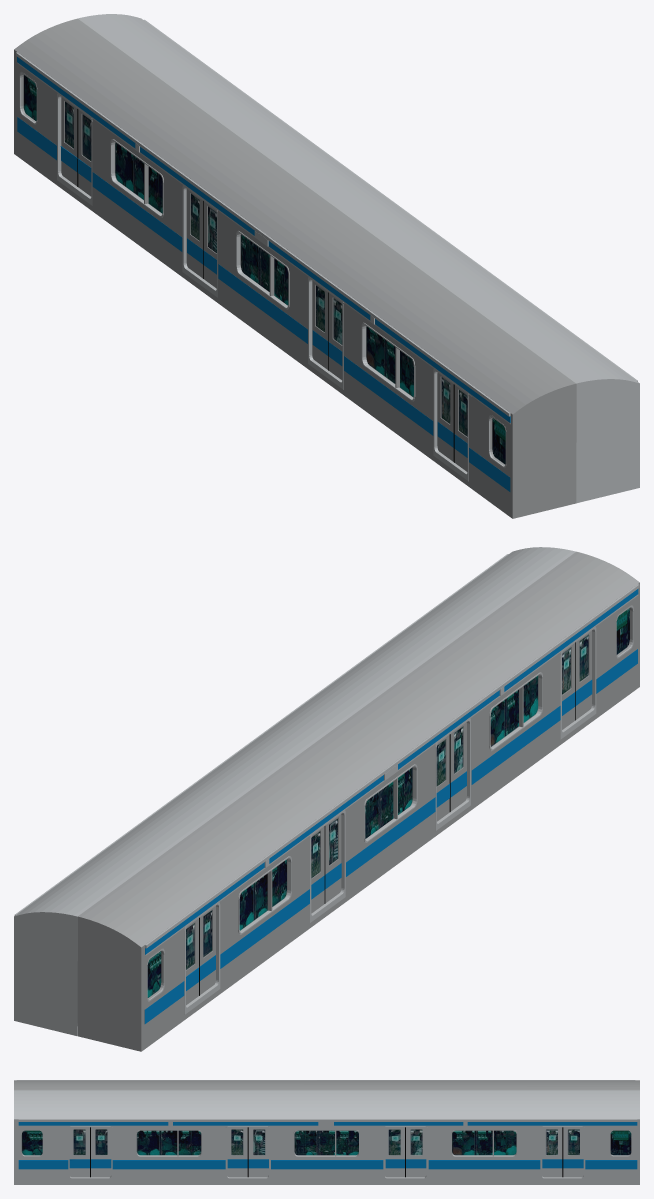
Rendered from trainF.glb.
3 renders of one model, top to bottom at view 1: azimuth 30°, elevation 25°; view 2: azimuth 150°, elevation 25°; view 3: azimuth 270°, elevation 25°, orthographic. The views are drawn at different scales.
Parts seen in each view (by area): view 1: train_bode.002, train_bode.001, 平面.001, ステッカー.005, 上ステッカー.002, 立方体.015, ステッカー.004, ドア.003, ドア.008, ドア.007, ドア.005, 立方体.026 (+5 smaller); view 2: train_bode.002, train_bode.001, 平面.001, ステッカー.005, 上ステッカー.002, 立方体.015, ステッカー.004, ドア.007, ドア.003, ドア.008, ドア.005, 立方体.026 (+5 smaller); view 3: train_bode.001, 平面, train_bode.002, ステッカー, 上ステッカー.001, 立方体.026, ステッカー.003, ドア.002, ドア.006, ドア.004, ドア.001, 立方体.031 (+8 smaller).
Part boxes in pixels (left/top/right/bottom): train_bode.002: left=14, top=18, right=576, bottom=518; train_bode.001: left=78, top=14, right=639, bottom=503; 平面.001: left=23, top=75, right=505, bottom=464; ステッカー.005: left=17, top=117, right=510, bottom=491; 上ステッカー.002: left=17, top=57, right=510, bottom=422; 立方体.015: left=16, top=52, right=510, bottom=416; ステッカー.004: left=60, top=146, right=467, bottom=457; ドア.003: left=186, top=189, right=216, bottom=288; ドア.008: left=437, top=372, right=467, bottom=471; ドア.007: left=312, top=281, right=342, bottom=380; ドア.005: left=61, top=97, right=91, bottom=196; 立方体.026: left=144, top=19, right=637, bottom=381; train_bode.002: left=77, top=551, right=639, bottom=1051; train_bode.001: left=14, top=547, right=575, bottom=1036; 平面.001: left=147, top=608, right=629, bottom=997; ステッカー.005: left=144, top=649, right=637, bottom=1023; 上ステッカー.002: left=145, top=589, right=638, bottom=954; 立方体.015: left=145, top=584, right=639, bottom=948; ステッカー.004: left=186, top=680, right=592, bottom=990; ドア.007: left=436, top=722, right=466, bottom=821; ドア.003: left=311, top=814, right=341, bottom=913; ドア.008: left=562, top=630, right=591, bottom=729; ドア.005: left=186, top=906, right=215, bottom=1005; 立方体.026: left=14, top=554, right=508, bottom=915; train_bode.001: left=14, top=1090, right=639, bottom=1184; 平面: left=21, top=1129, right=631, bottom=1155; train_bode.002: left=14, top=1080, right=639, bottom=1090; ステッカー: left=18, top=1160, right=637, bottom=1169; 上ステッカー.001: left=18, top=1122, right=637, bottom=1125; 立方体.026: left=18, top=1119, right=637, bottom=1121; ステッカー.003: left=69, top=1159, right=583, bottom=1168; ドア.002: left=384, top=1127, right=426, bottom=1177; ドア.006: left=227, top=1127, right=268, bottom=1177; ドア.004: left=69, top=1127, right=111, bottom=1177; ドア.001: left=542, top=1127, right=583, bottom=1177; 立方体.031: left=18, top=1125, right=637, bottom=1126.
Bounding box in the file's own units: 2.05 × 1.8 × 13.6.
Materials: 14 (2 with a texture image).
